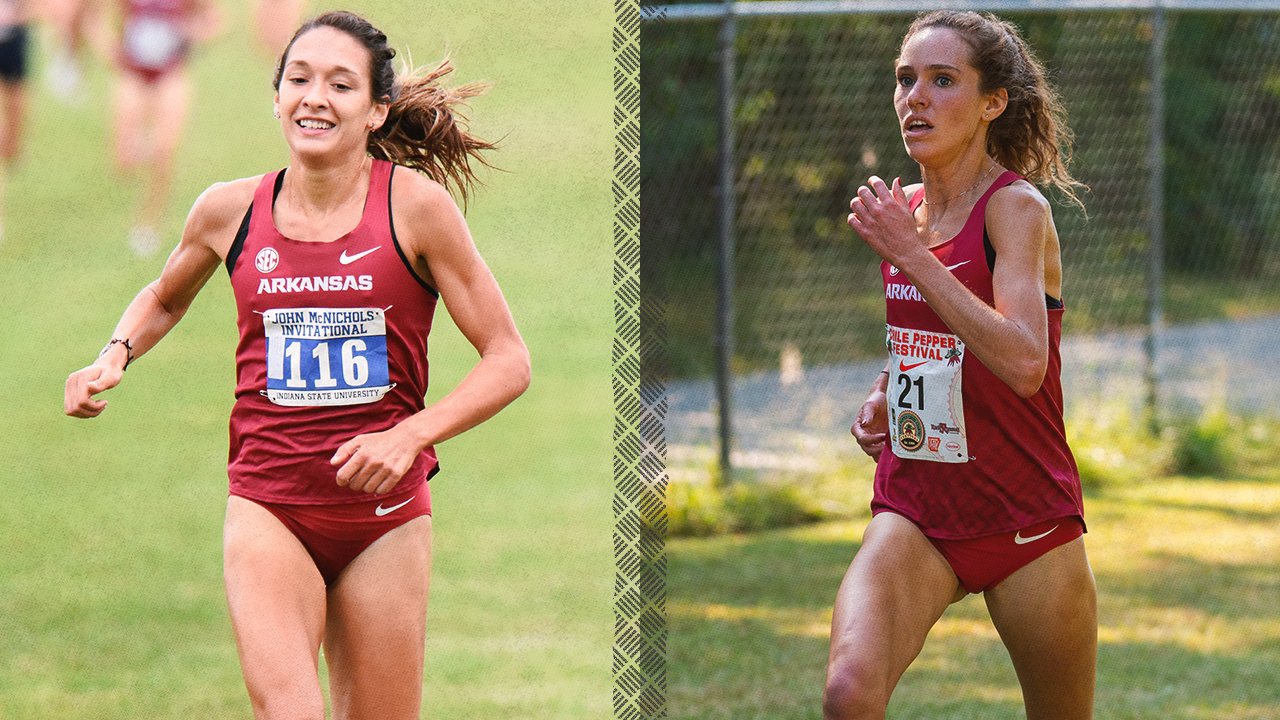runner: (68, 13, 538, 720), (818, 7, 1103, 720)
